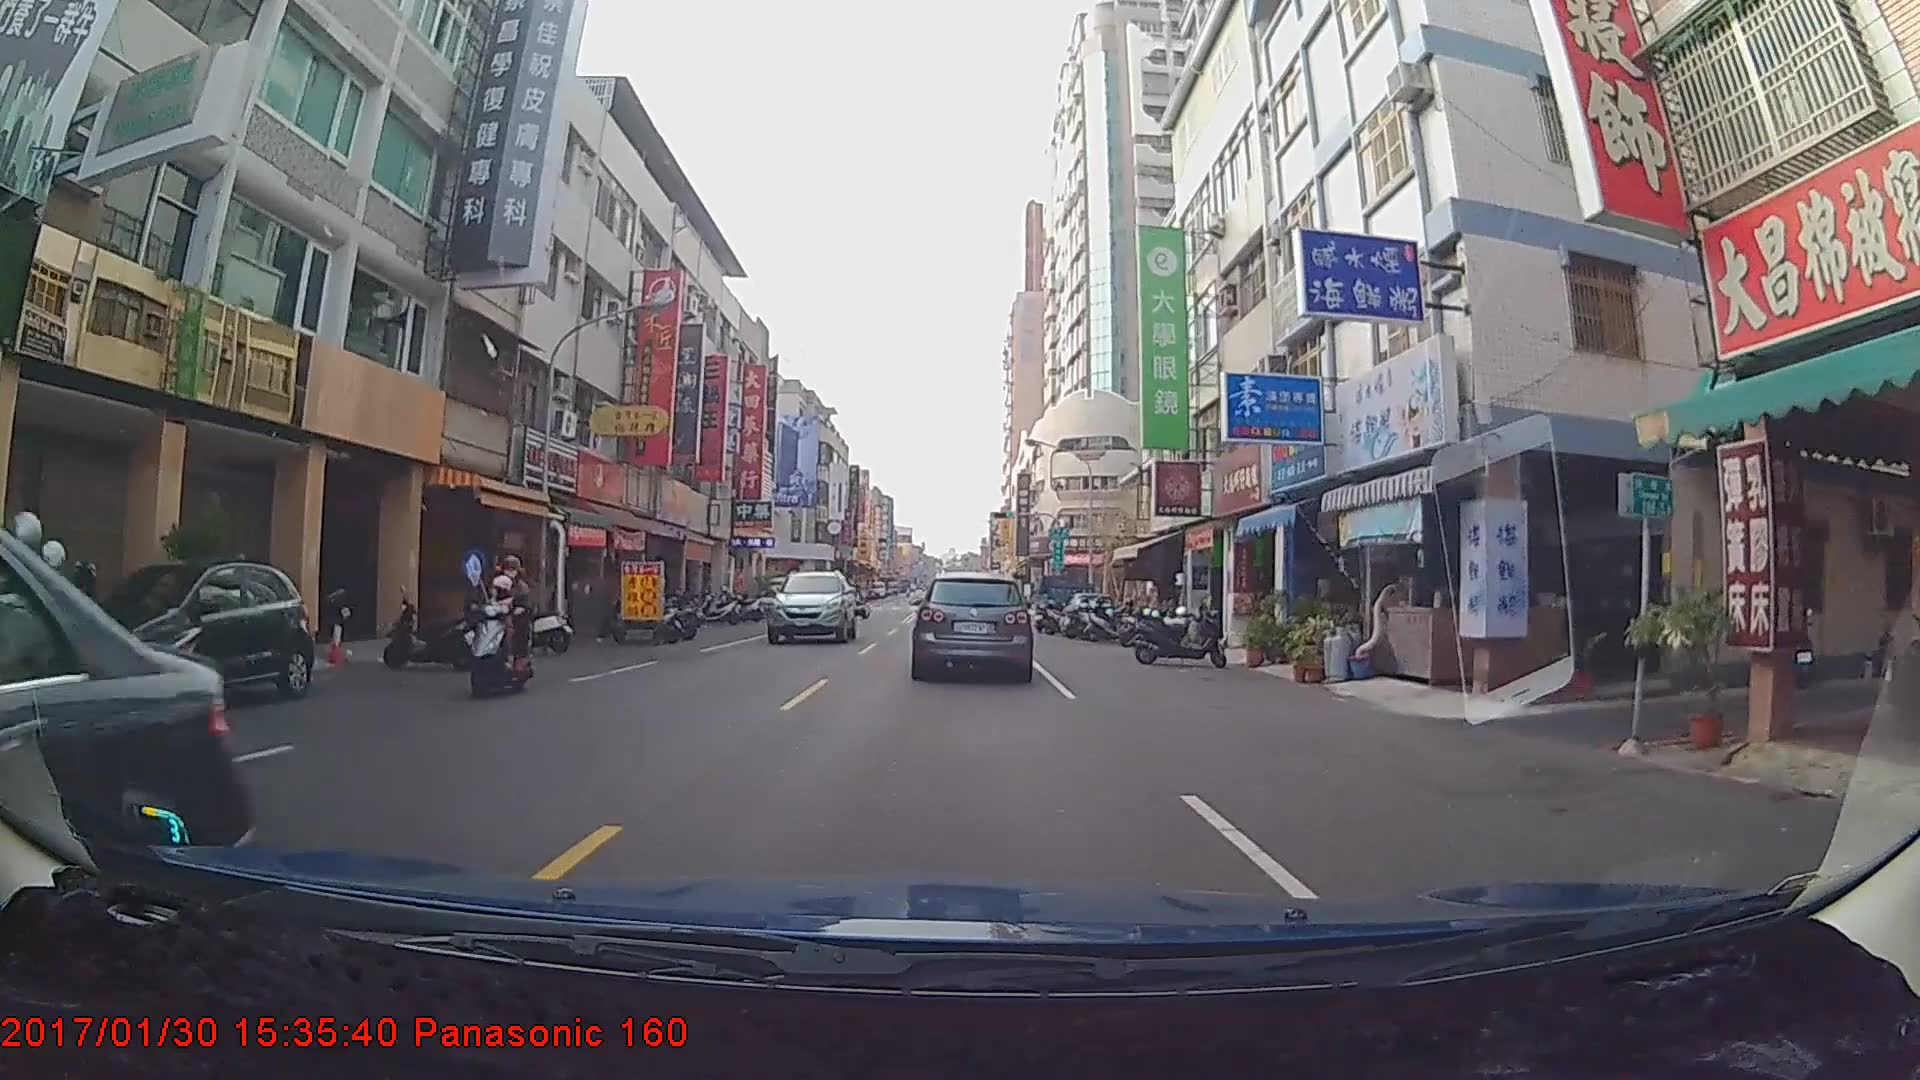rider: (477, 546, 554, 697)
vehicle: (0, 503, 255, 912), (911, 570, 1032, 680), (765, 571, 859, 645), (1031, 574, 1094, 629)
